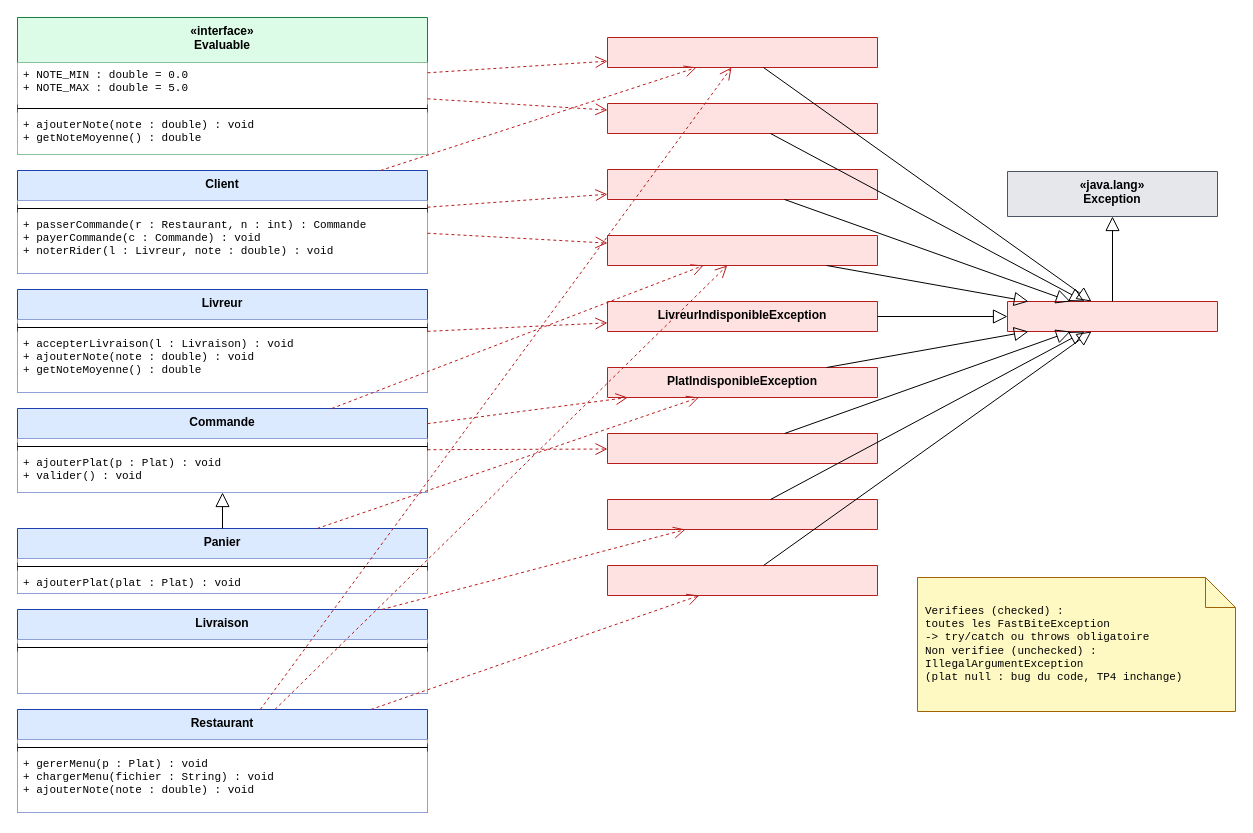
This 1253x833 diagram has some shape labels left out. The shapes that lost their labels are listed below. From the top down, each one's centre as x and y in pixels, then its label:
At (x=742, y=52): "NoteInvalideException".
At (x=742, y=118): "AucuneNoteException".
At (x=742, y=184): "PaiementImpossibleException".
At (x=742, y=250): "CapaciteDepasseeException".
At (x=1112, y=316): "FastBiteException".
At (x=742, y=448): "CommandeVideException".
At (x=742, y=514): "EtatLivraisonException".
At (x=742, y=580): "FormatFichierException".
At (x=222, y=672): "+ demarrer() : void + terminer() : void".
